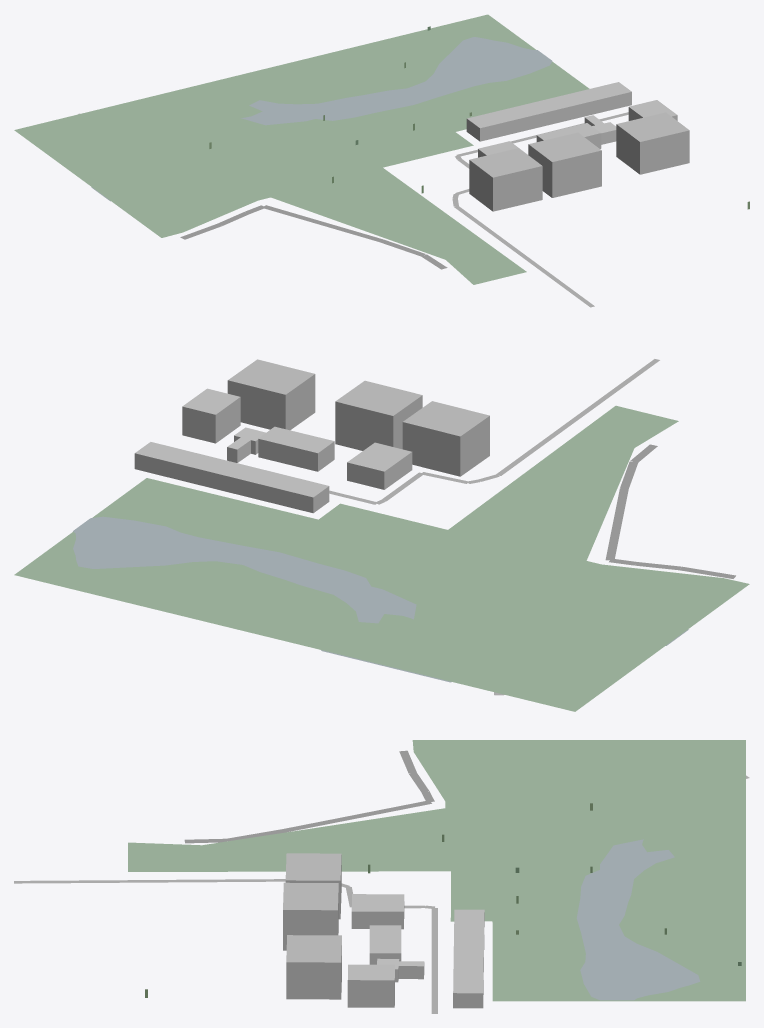
3 views of the same model, one above another, from view 1: azimuth 30°, elevation 25°; view 2: azimuth 150°, elevation 25°; view 3: azimuth 270°, elevation 25° (orthographic). The views are drawn at different scales.
Bounding box in the file's own units: 527 × 38.34 × 595.
